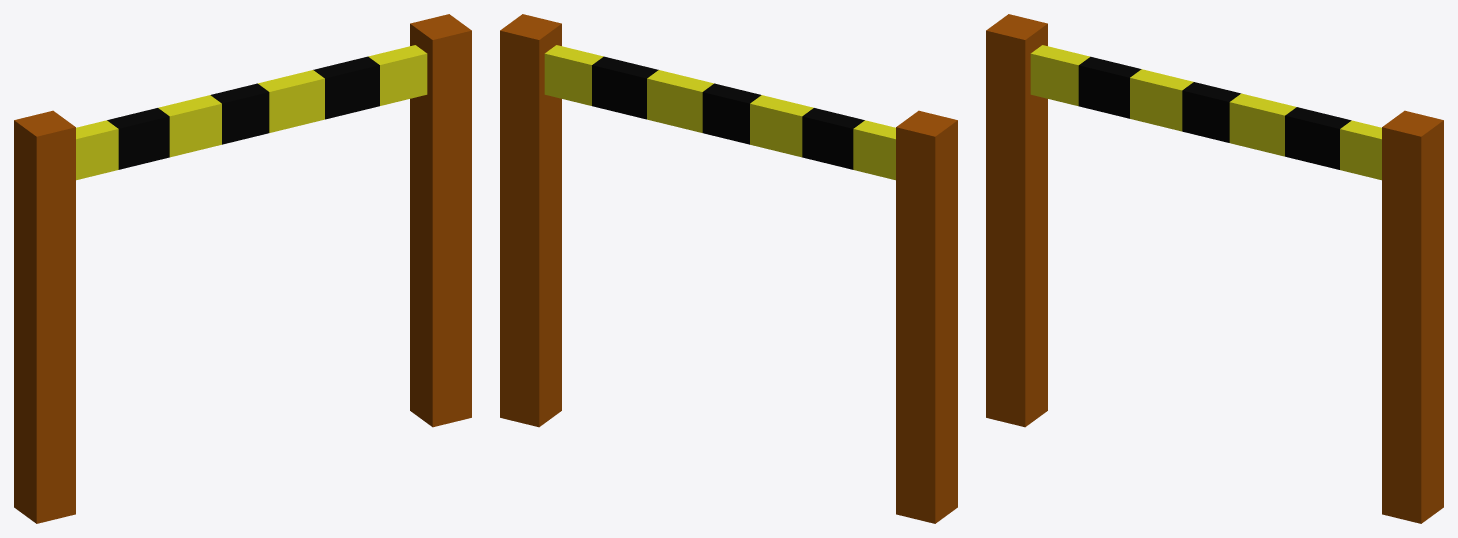
The model's file is FenceHigh.fbx.
3 renders of one model, left to right at view 1: azimuth 30°, elevation 25°; view 2: azimuth 150°, elevation 25°; view 3: azimuth 330°, elevation 25°, orthographic.
Visible parts, largest first — view 1: pCube1, pCube2, pCube3; view 2: pCube1, pCube2, pCube3; view 3: pCube2, pCube1, pCube3.
Part boxes in pixels (bbox=[...]): pCube1: bbox=[14, 110, 75, 523]; pCube2: bbox=[410, 14, 471, 427]; pCube3: bbox=[76, 45, 427, 180]; pCube1: bbox=[896, 110, 957, 523]; pCube2: bbox=[500, 14, 561, 427]; pCube3: bbox=[544, 45, 895, 180]; pCube2: bbox=[1382, 110, 1443, 523]; pCube1: bbox=[986, 14, 1047, 427]; pCube3: bbox=[1030, 45, 1381, 180].
Size of the model in its own units: 5.88 by 5 by 0.5303.
